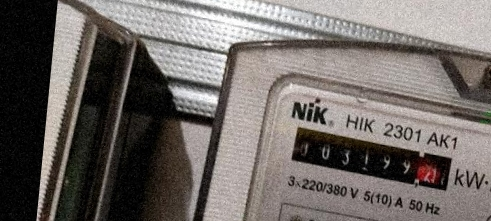0: (296, 137, 311, 157), (319, 140, 332, 160)
1: (361, 145, 371, 165)
3: (339, 146, 350, 166)
6: (421, 168, 432, 185)
9: (380, 151, 391, 170), (400, 157, 411, 176)
screen: (282, 121, 461, 198)
